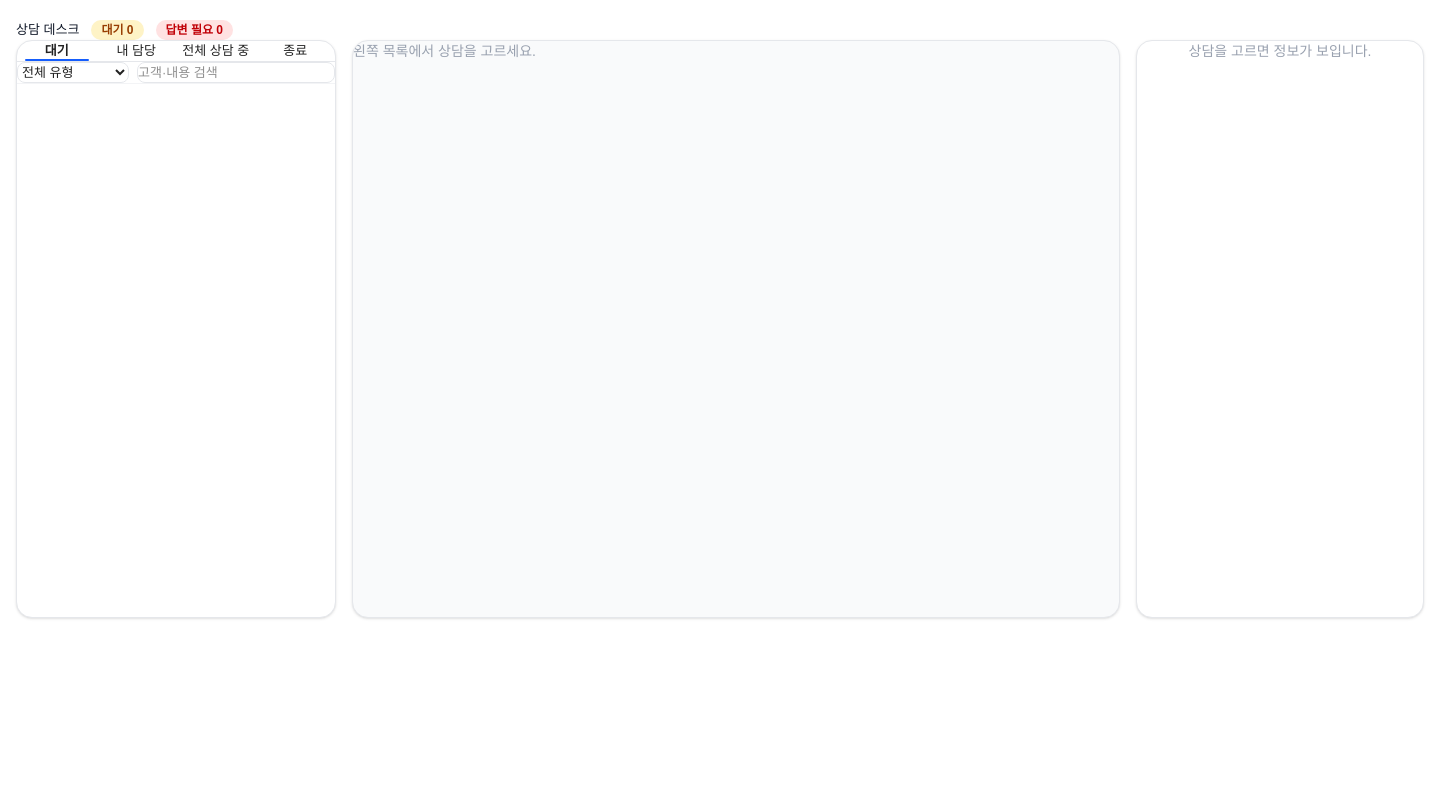
Desk — 상담 데스크 › 빠른 답변 — 고르면 고객 이름이 들어간 문장이 입력칸에 들어간다(바로 보내지 않는다)
This screenshot has width=1440, height=810.
Click the tab "내 담당": click(136, 51) [96,41,176,60]
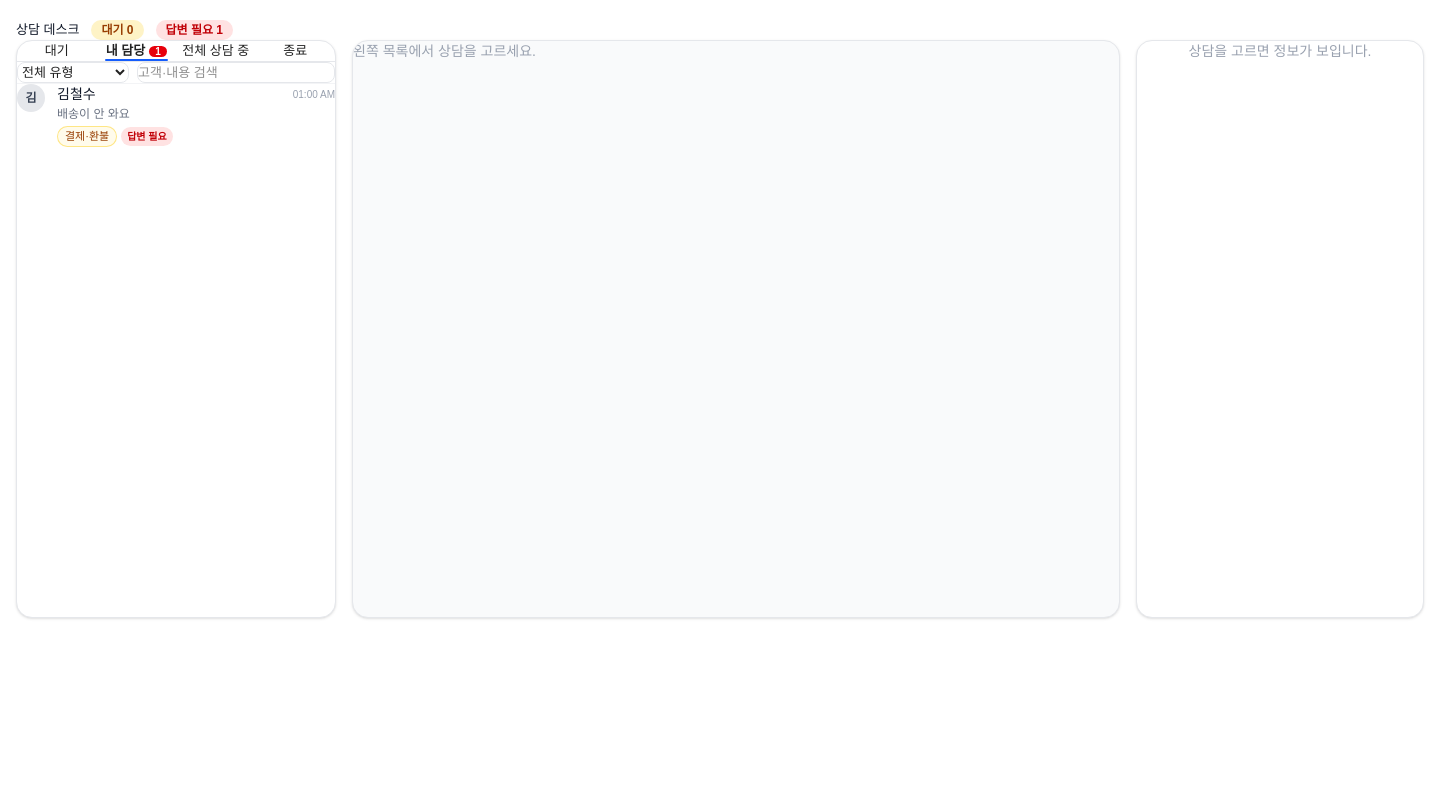
Click the button "김 김철수 01:00 AM 배송이 안 와요 결제·환불 답변 필요": click(76, 94) [17,84,335,146]
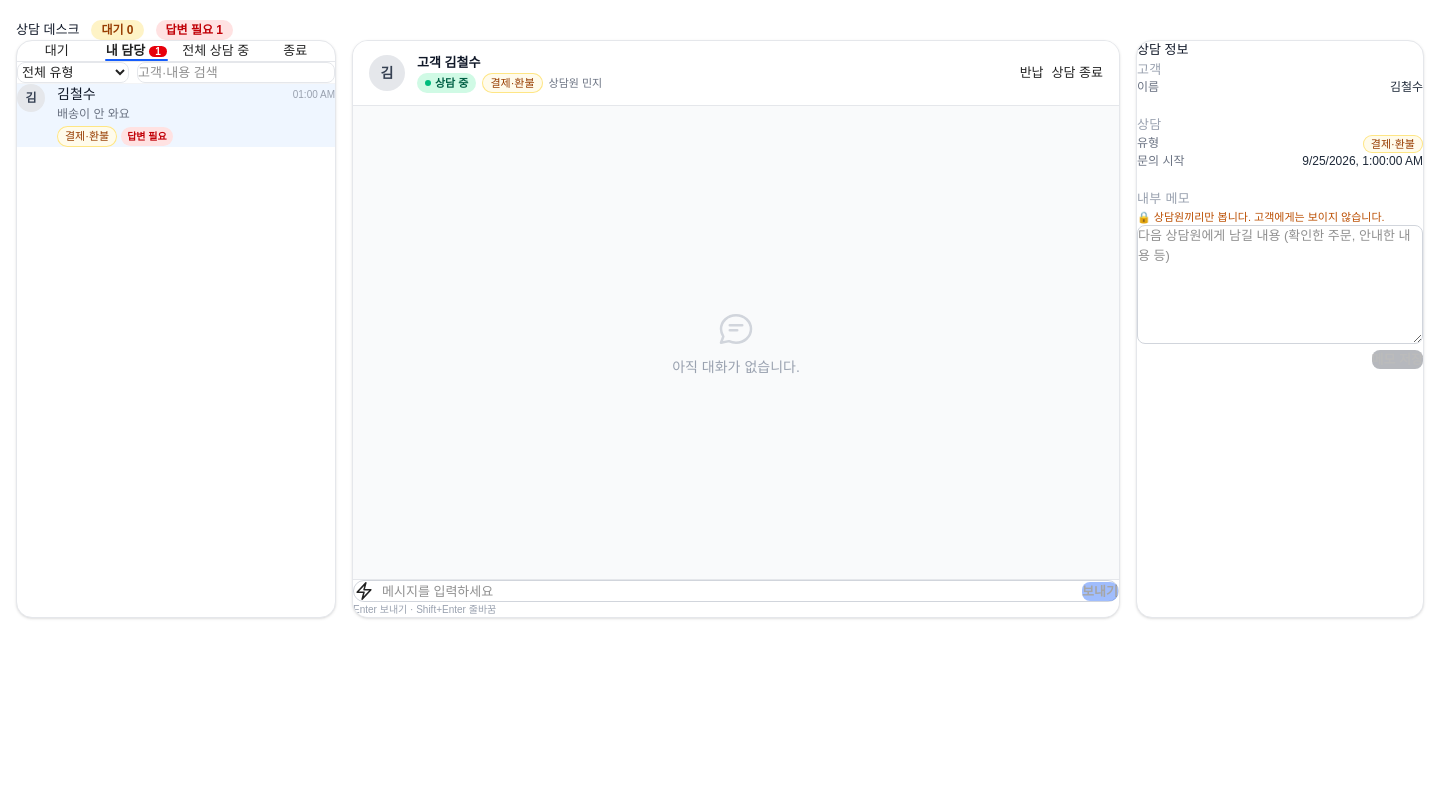
Click the button named "빠른 답변": click(364, 591) [354,581,374,601]
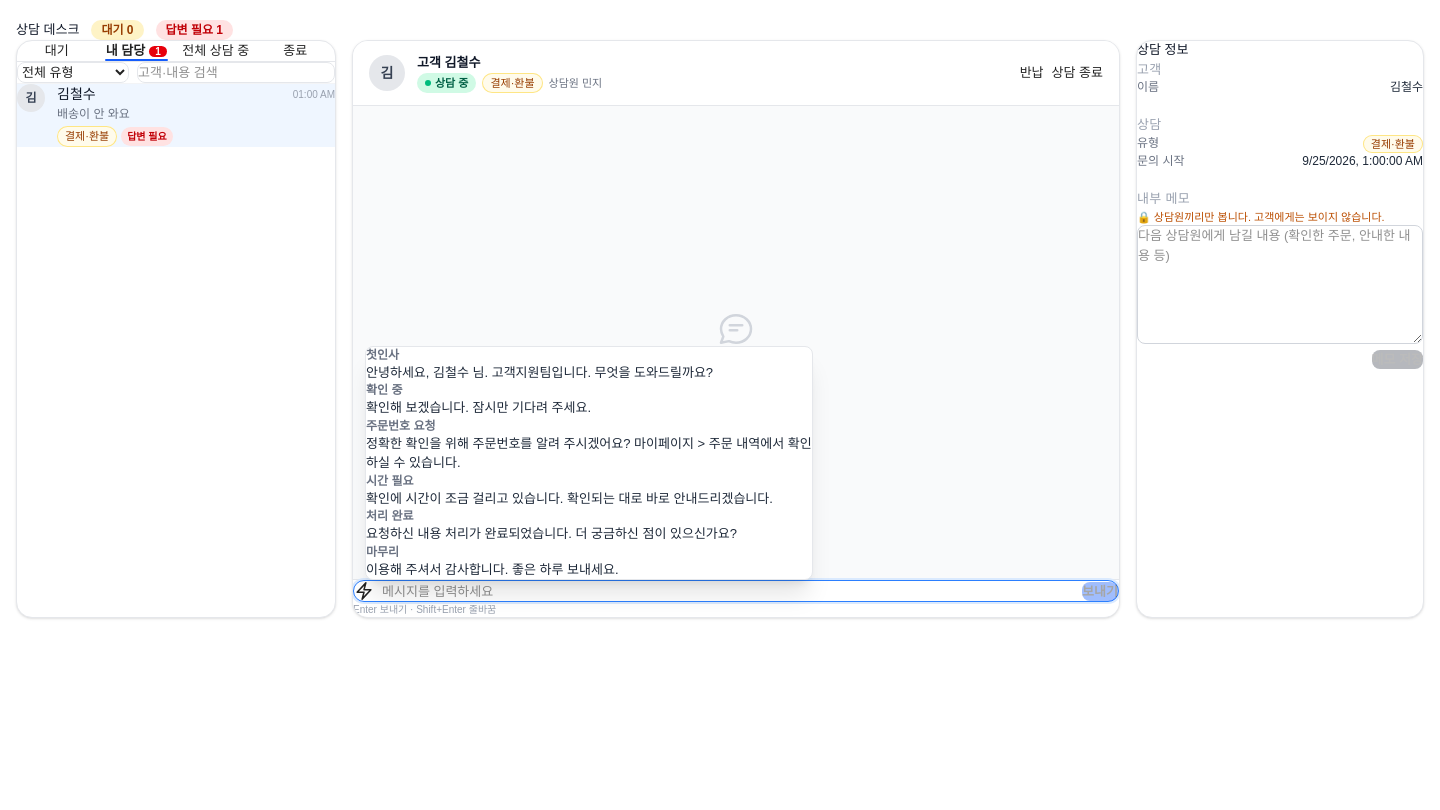
Click the menu item "첫인사 안녕하세요, 김철수 님. 고객지원팀입니다. 무엇을 도와드릴까요?": click(589, 364) [366,346,812,382]
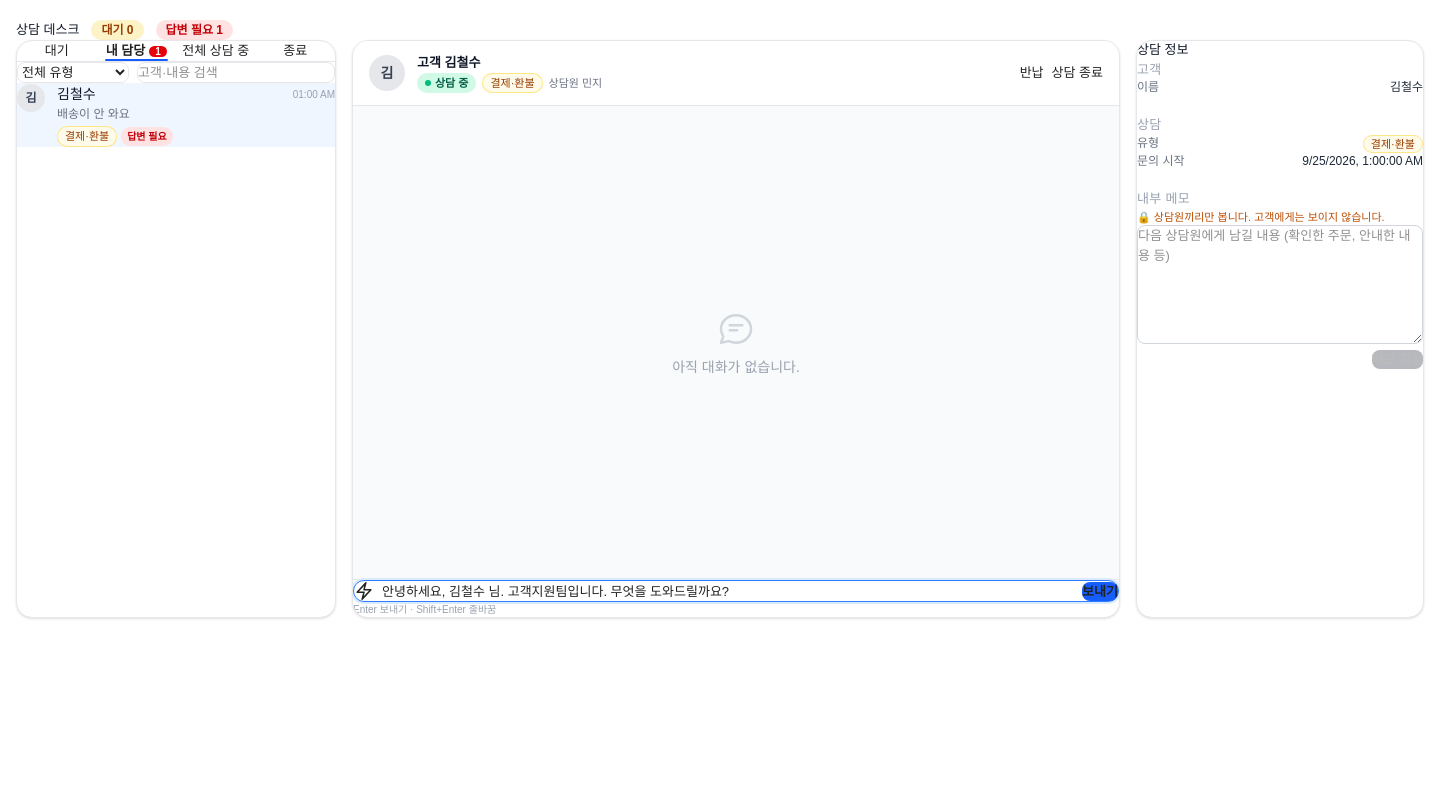
Check: the text box named "메시지를 입력하세요" holds "안녕하세요, 김철수 님. 고객지원팀입니다. 무엇을 도와드릴까요?", box [382,582,1074,601]
Check: the menu is gone
